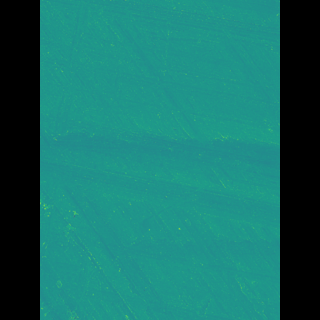Loch: (70, 111, 250, 228), (68, 0, 108, 274), (91, 227, 250, 286)
